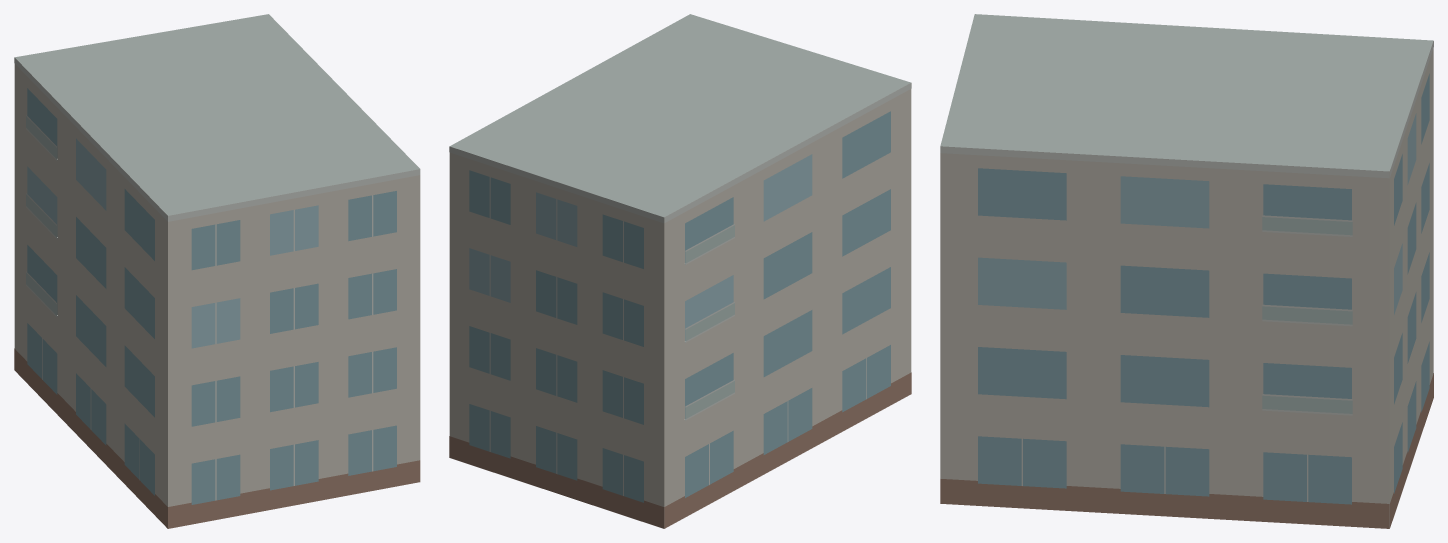
File: survey-upis-32743430.glb
The picture shows the model from 3 angles, left to right: view 1: azimuth 30°, elevation 25°; view 2: azimuth 150°, elevation 25°; view 3: azimuth 270°, elevation 25°; orthographic projection. The views are drawn at different scales.
Parts seen in each view (by area): view 1: survey-upis-32743430.tmp; view 2: survey-upis-32743430.tmp; view 3: survey-upis-32743430.tmp.
Part boxes in pixels (<box>): survey-upis-32743430.tmp: <box>14,14,420,528</box>; survey-upis-32743430.tmp: <box>449,14,911,528</box>; survey-upis-32743430.tmp: <box>940,14,1433,528</box>.
Size of the model in its own units: 12.1 by 12.8 by 16.03.
